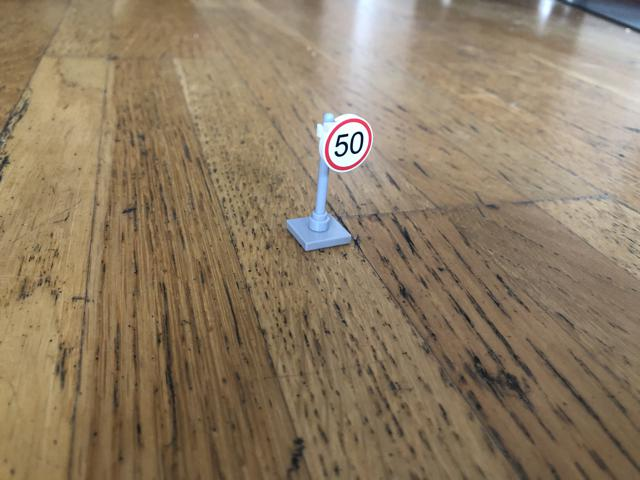tempolimit 50: (320, 114, 374, 172)
